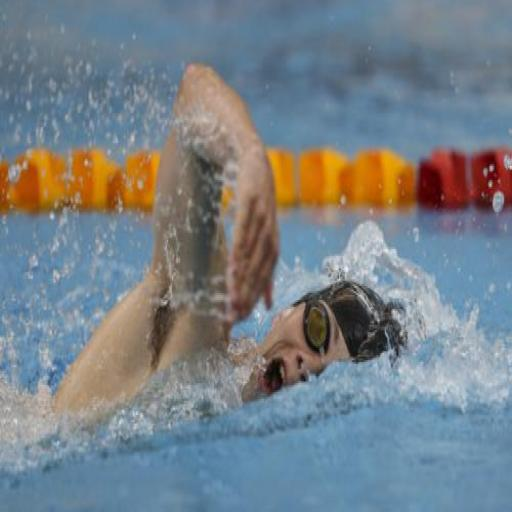swimming: (0, 58, 417, 452)
